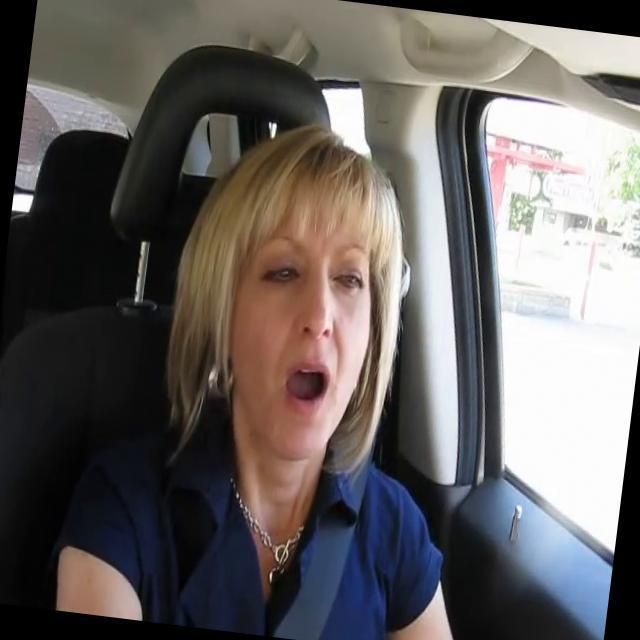open-mouth: (281, 361, 330, 413)
